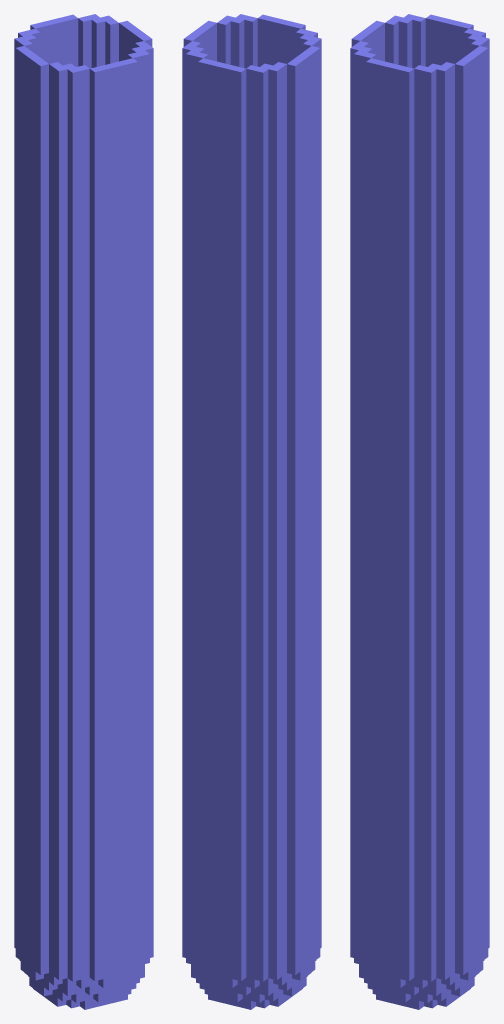
File: Test Tube Rack2-3-1.fbx
The picture shows the model from 3 angles, left to right: view 1: azimuth 30°, elevation 25°; view 2: azimuth 150°, elevation 25°; view 3: azimuth 330°, elevation 25°; orthographic projection.
Parts seen in each view (by area): view 1: Test Tube Rack2-3-1.001; view 2: Test Tube Rack2-3-1.001; view 3: Test Tube Rack2-3-1.001.
Part boxes in pixels (x1,y1,x2,y2): Test Tube Rack2-3-1.001: (14,14,153,1009); Test Tube Rack2-3-1.001: (182,14,321,1009); Test Tube Rack2-3-1.001: (350,14,489,1009).
Size of the model in its own units: 1.3 by 10.5 by 1.3.
